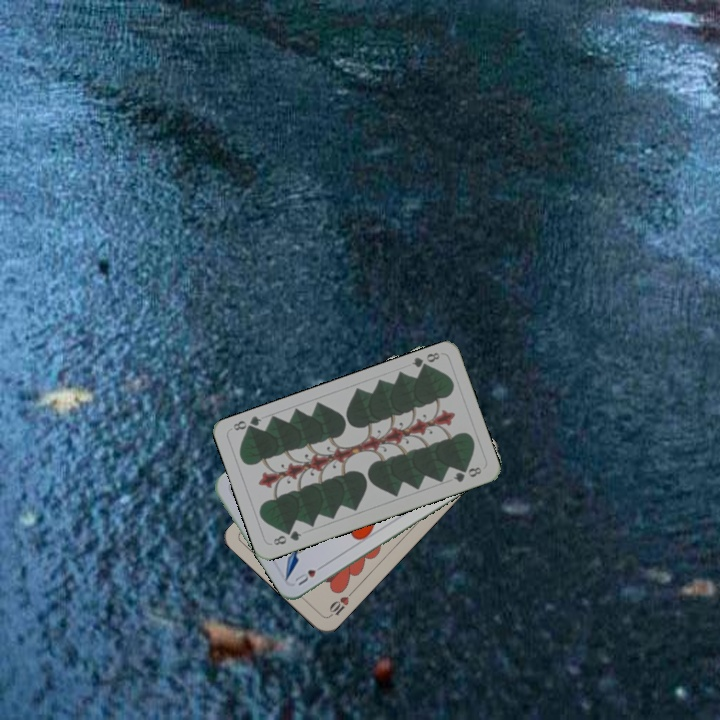G8: (408, 348, 442, 374), (269, 526, 304, 548)
H10: (325, 587, 356, 620)
HU: (291, 560, 328, 588)
